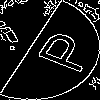P: (25, 25, 98, 75)
